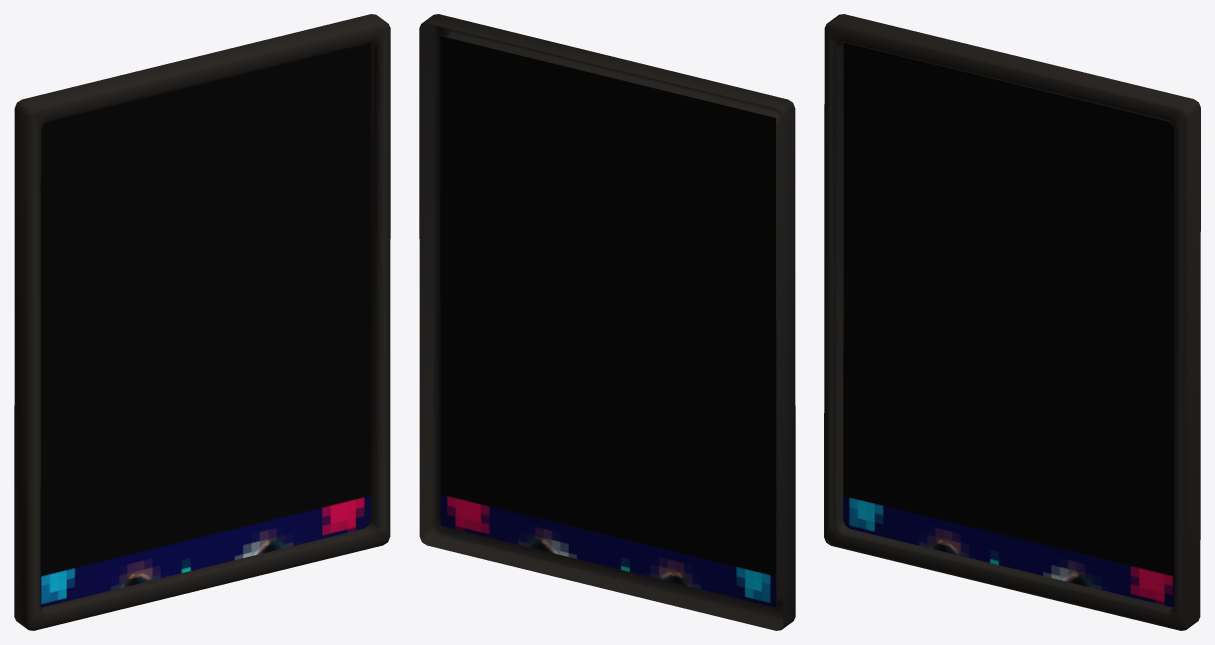
File: Poster App.fbx
The picture shows the model from 3 angles, left to right: view 1: azimuth 30°, elevation 25°; view 2: azimuth 150°, elevation 25°; view 3: azimuth 330°, elevation 25°; orthographic projection.
Visible parts, largest first — view 1: Poster App; view 2: Poster App; view 3: Poster App.
Part boxes in pixels (box(x1,y1,x2,y2)): Poster App: box(14, 14, 390, 630); Poster App: box(419, 14, 795, 630); Poster App: box(824, 14, 1200, 630).
Bounding box in the file's own units: 73.92 × 101 × 4.85.
